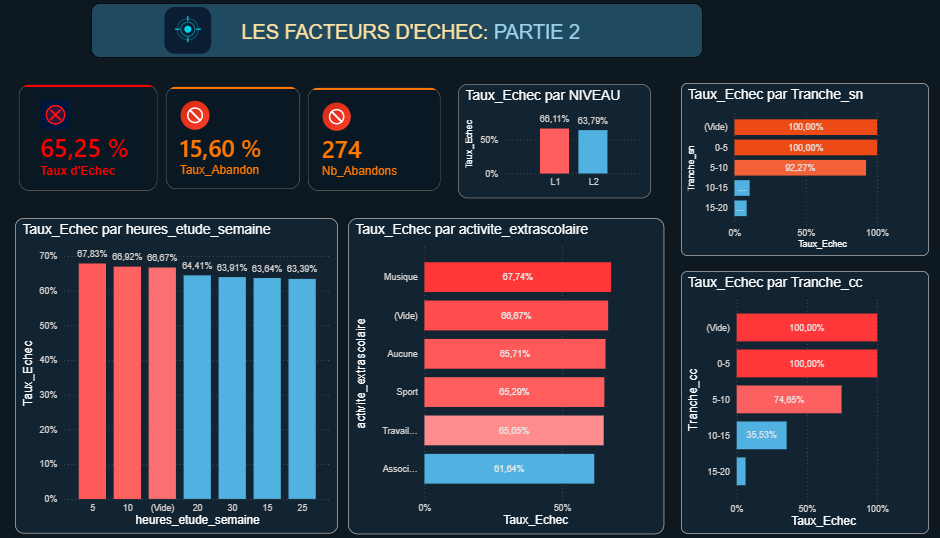

The dashboard page shown, as its layout file describes it:
{"tool":"powerbi","page":{"name":"Page 4","canvas":[1280,738],"ordinal":3},"visuals":[{"type":"textbox","title":"FACTEUR D''ECHEC","box":[127.9,8.1,824.2,74.1],"z":0},{"type":"image","box":[216.8,13.5,83.5,63.3],"z":1000},{"type":"cardVisual","fields":{"Data":["FAITS_NOTES_2.Taux_Abandon"]},"box":[223.6,115.8,191.2,148.1],"z":2000},{"type":"clusteredColumnChart","fields":{"Y":["FAITS_NOTES.Taux_Echec"],"Category":["DIM_ETUDIANT.heures_etude_semaine"]},"box":[25.9,297.2,434.8,425.3],"z":3000},{"type":"cardVisual","fields":{"Data":["FAITS_NOTES.Taux_Echec"]},"box":[25.6,113.1,198,153.5],"z":4000},{"type":"clusteredBarChart","fields":{"Category":["DIM_ETUDIANT.activite_extrascolaire"],"Y":["FAITS_NOTES.Taux_Echec"]},"box":[474,297.6,425.6,425.6],"z":5000},{"type":"clusteredBarChart","fields":{"Y":["FAITS_NOTES.Taux_Echec"],"Category":["FAITS_NOTES.Tranche_cc"]},"box":[922.5,369,334,354.2],"z":6000},{"type":"cardVisual","fields":{"Data":["FAITS_NOTES_2.Nb_Abandons"]},"box":[414.8,117.2,189.9,149.5],"z":7000},{"type":"clusteredBarChart","fields":{"Y":["FAITS_NOTES.Taux_Echec"],"Category":["FAITS_NOTES.Tranche_sn"]},"box":[922.5,115.8,334,233],"z":8000},{"type":"columnChart","fields":{"Category":["DIM_NIVEAU.NIVEAU"],"Y":["FAITS_NOTES.Taux_Echec"]},"box":[622.2,117.2,259.9,153.5],"z":9000}]}

Visuals, with their boxes in screenshot pixels (x1, y1, x2, y2), scaled from the page's 1280x738 canvas onto the 940x538 screenshot:
"FACTEUR D''ECHEC" textbox: {"left": 94, "top": 6, "right": 699, "bottom": 60}
image: {"left": 159, "top": 10, "right": 221, "bottom": 56}
cardVisual - FAITS_NOTES_2.Taux_Abandon: {"left": 164, "top": 84, "right": 305, "bottom": 192}
clusteredColumnChart - FAITS_NOTES.Taux_Echec x DIM_ETUDIANT.heures_etude_semaine: {"left": 19, "top": 217, "right": 338, "bottom": 527}
cardVisual - FAITS_NOTES.Taux_Echec: {"left": 19, "top": 82, "right": 164, "bottom": 194}
clusteredBarChart - DIM_ETUDIANT.activite_extrascolaire x FAITS_NOTES.Taux_Echec: {"left": 348, "top": 217, "right": 661, "bottom": 527}
clusteredBarChart - FAITS_NOTES.Taux_Echec x FAITS_NOTES.Tranche_cc: {"left": 677, "top": 269, "right": 923, "bottom": 527}
cardVisual - FAITS_NOTES_2.Nb_Abandons: {"left": 305, "top": 85, "right": 444, "bottom": 194}
clusteredBarChart - FAITS_NOTES.Taux_Echec x FAITS_NOTES.Tranche_sn: {"left": 677, "top": 84, "right": 923, "bottom": 254}
columnChart - DIM_NIVEAU.NIVEAU x FAITS_NOTES.Taux_Echec: {"left": 457, "top": 85, "right": 648, "bottom": 197}
